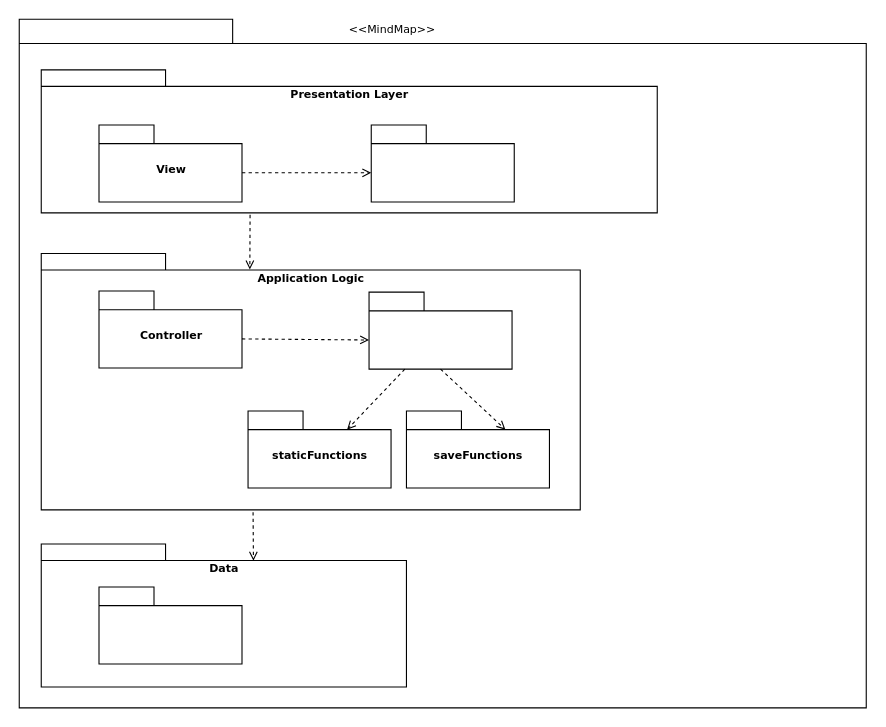
This 886x727 diagram has some shape labels left out. Each missing label, with the centre of its shape:
FXML: the point at 442,163
Model: the point at 170,625
Util: the point at 440,330
